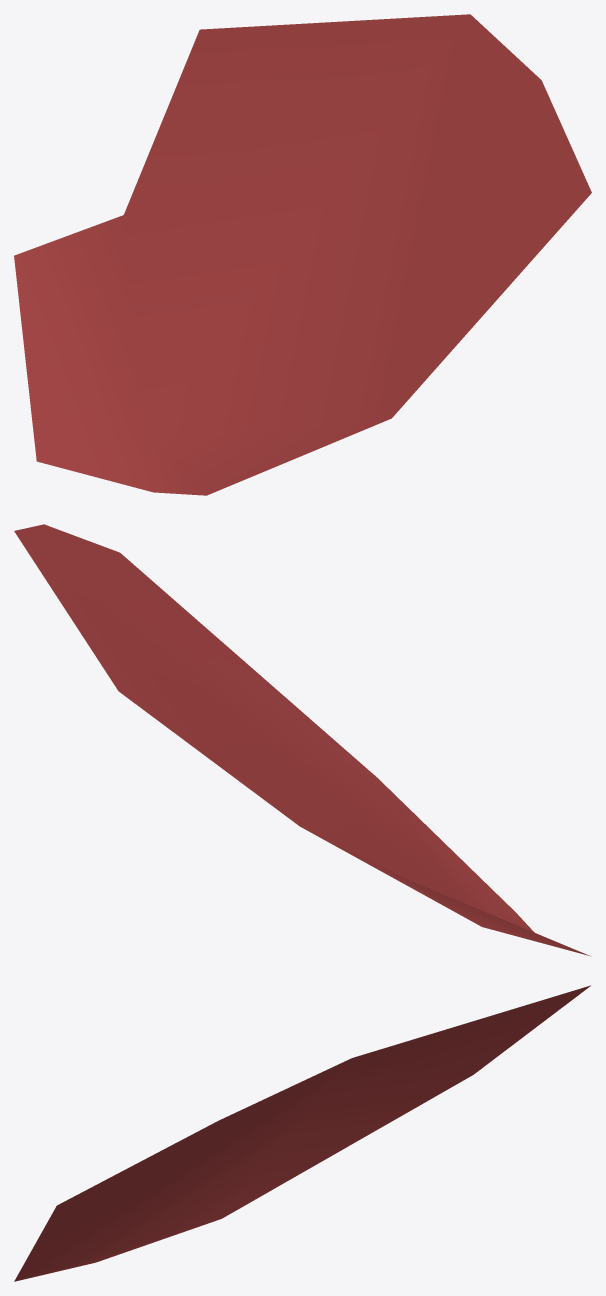
Rendered from flexor-digitorum-longus-e2r.glb.
3 views of the same model, one above another, from view 1: azimuth 30°, elevation 25°; view 2: azimuth 150°, elevation 25°; view 3: azimuth 270°, elevation 25° (orthographic). The views are drawn at different scales.
Visible parts, largest first — view 1: Flexor digitorum longus.e2r; view 2: Flexor digitorum longus.e2r; view 3: Flexor digitorum longus.e2r.
Boxes of the visible parts, bbox=[...] form: Flexor digitorum longus.e2r: bbox=[14, 14, 591, 495]; Flexor digitorum longus.e2r: bbox=[14, 524, 590, 956]; Flexor digitorum longus.e2r: bbox=[14, 985, 590, 1281].
Size of the model in its own units: 0.00265 by 0.00165 by 0.00196.
